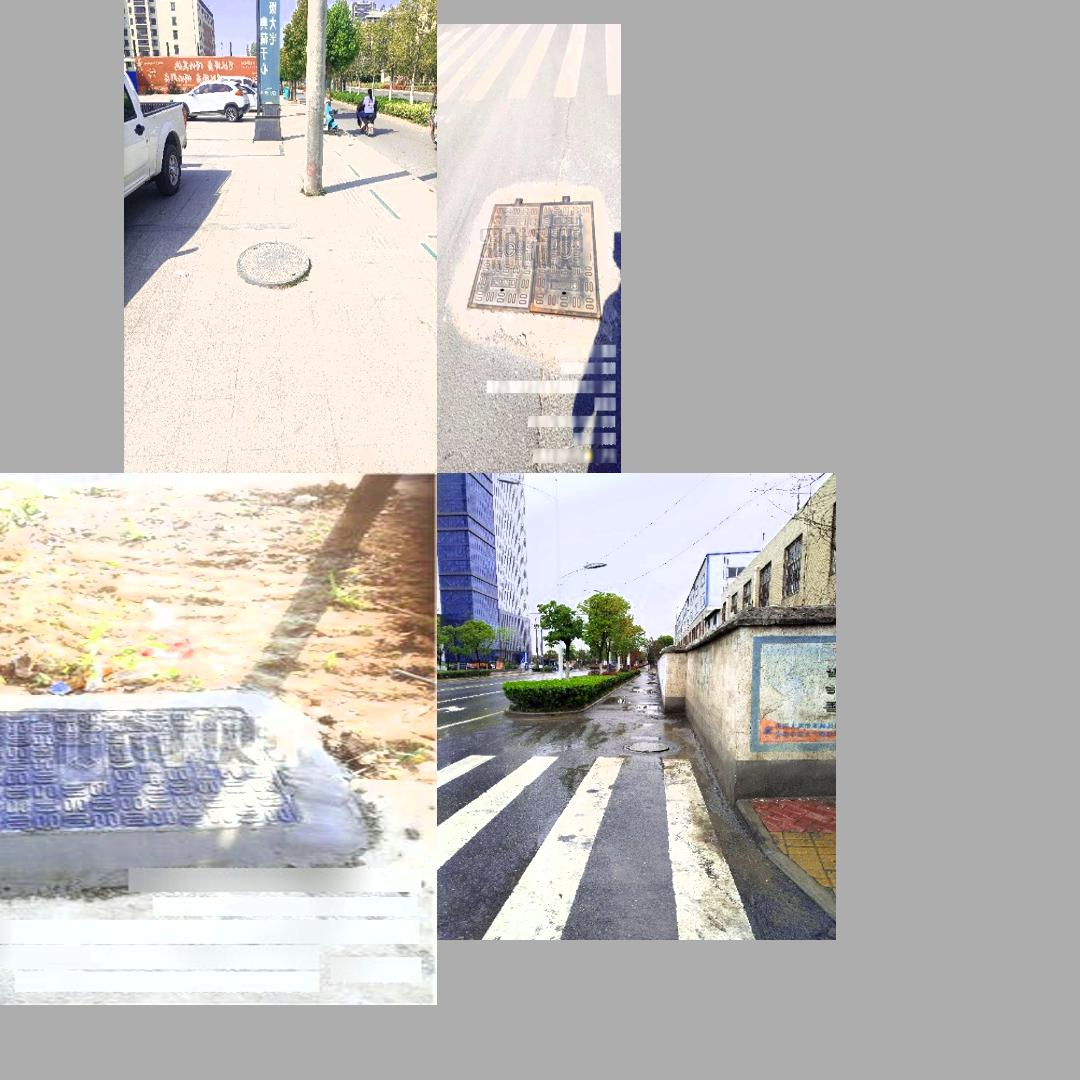good: (0, 701, 306, 834), (466, 195, 602, 320), (601, 717, 687, 772), (237, 240, 309, 288)
